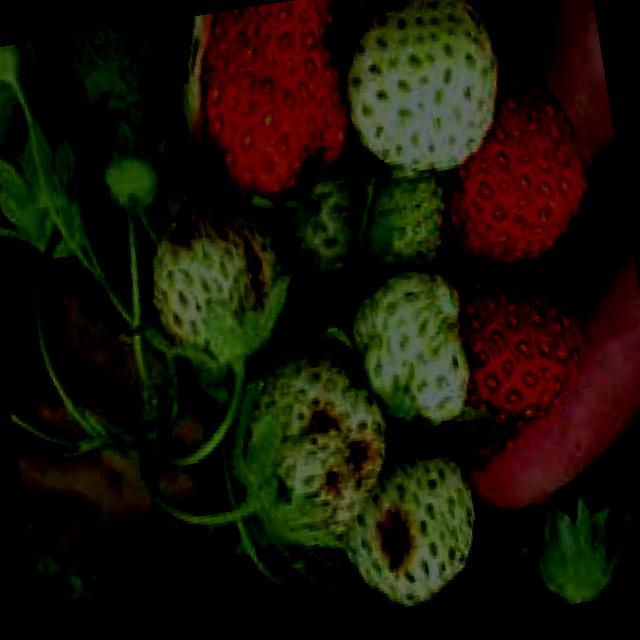Strawberry: (415, 53, 602, 283), (401, 258, 598, 471), (184, 0, 366, 216), (216, 340, 401, 550), (336, 0, 515, 181), (142, 194, 302, 372), (336, 446, 490, 614), (342, 265, 478, 437), (268, 164, 372, 291), (58, 21, 176, 131), (349, 166, 455, 280)
